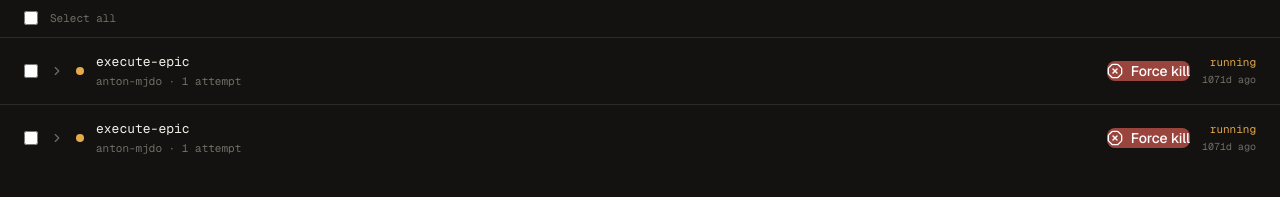
Test: Bulk kill bar › reports nothing as cancelled when the whole batch request fails
Click the checkbox labelled "Select all": (31, 18) [24,11,38,25]
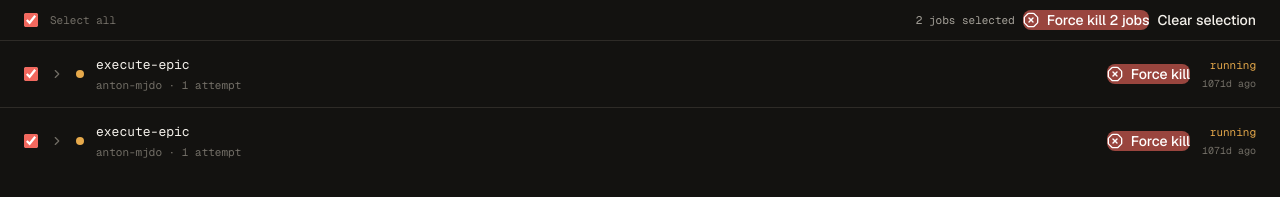
Click the button "Force kill 2 jobs": (1086, 20) [1023,10,1150,30]
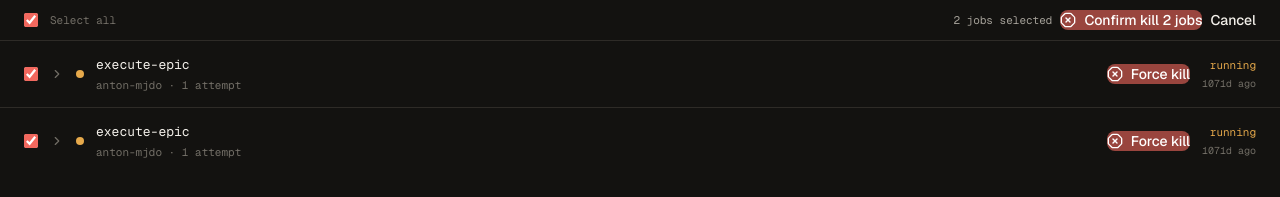
Click the button "Confirm kill 2 jobs": (1131, 20) [1060,10,1202,30]
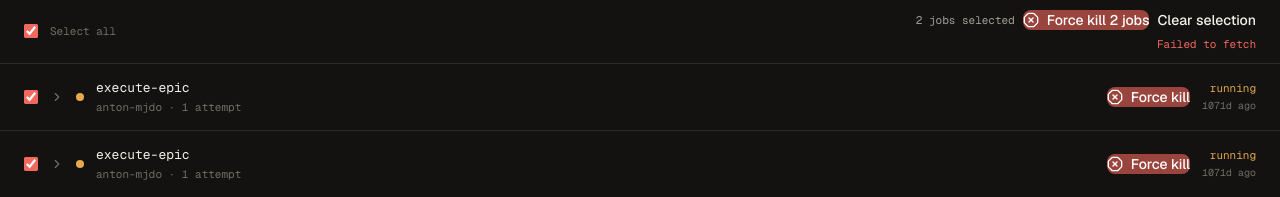
Expected: the text "running" is shown 2 times, [1210,80,1256,96]; [1210,147,1256,163]
Expected: the message reads "Failed to fetch", [1157,37,1256,51]
